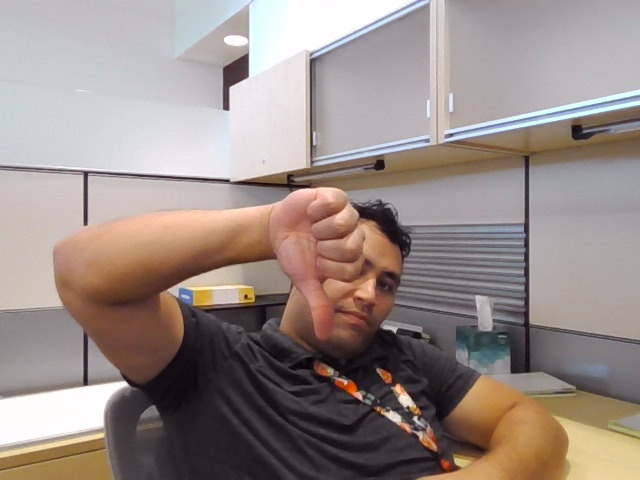ThumbsDown: (273, 186, 366, 342)
